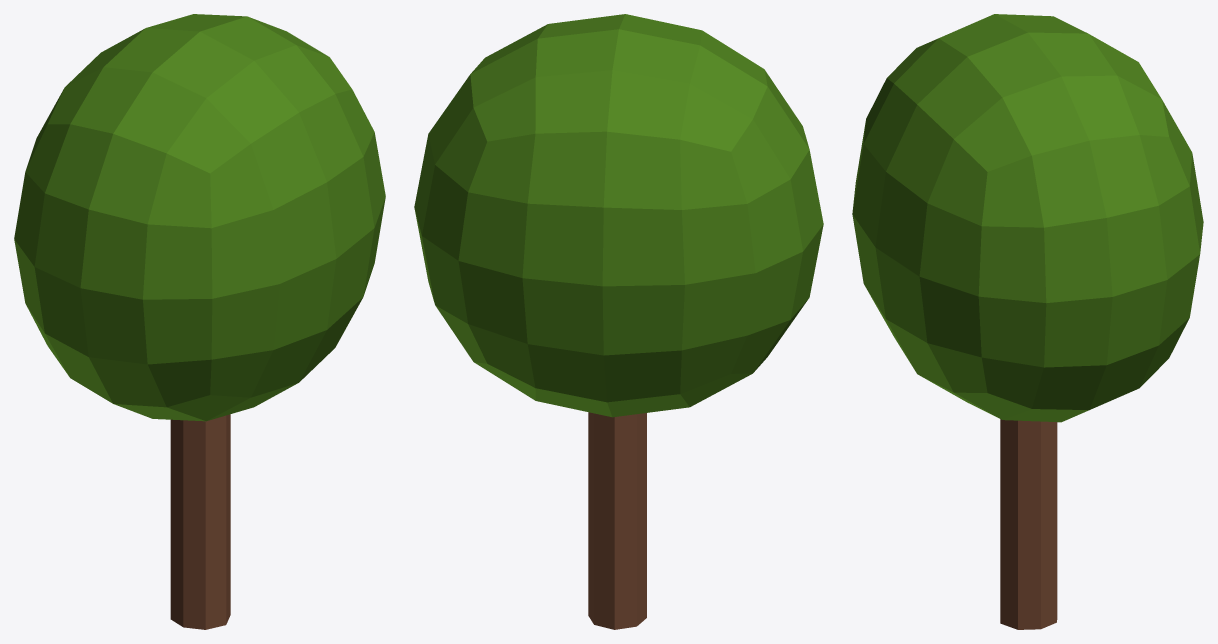
File: single tree.fbx
3 renders of one model, left to right at view 1: azimuth 30°, elevation 25°; view 2: azimuth 150°, elevation 25°; view 3: azimuth 270°, elevation 25°, orthographic.
Visible parts, largest first — view 1: Cube.030; view 2: Cube.030; view 3: Cube.030.
Boxes of the visible parts, bbox=[...] form: Cube.030: bbox=[14, 14, 385, 629]; Cube.030: bbox=[414, 14, 823, 629]; Cube.030: bbox=[852, 14, 1203, 629].
Size of the model in its own units: 3.86 by 6.19 by 3.37.
1 material, 1 textured.
